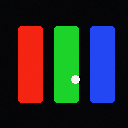0 point: (71, 75, 79, 83)
